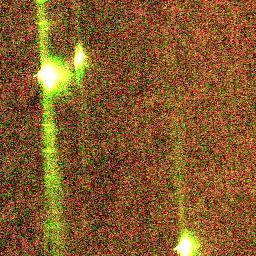Ship: (32, 56, 66, 94), (174, 233, 201, 255), (71, 42, 88, 71)
